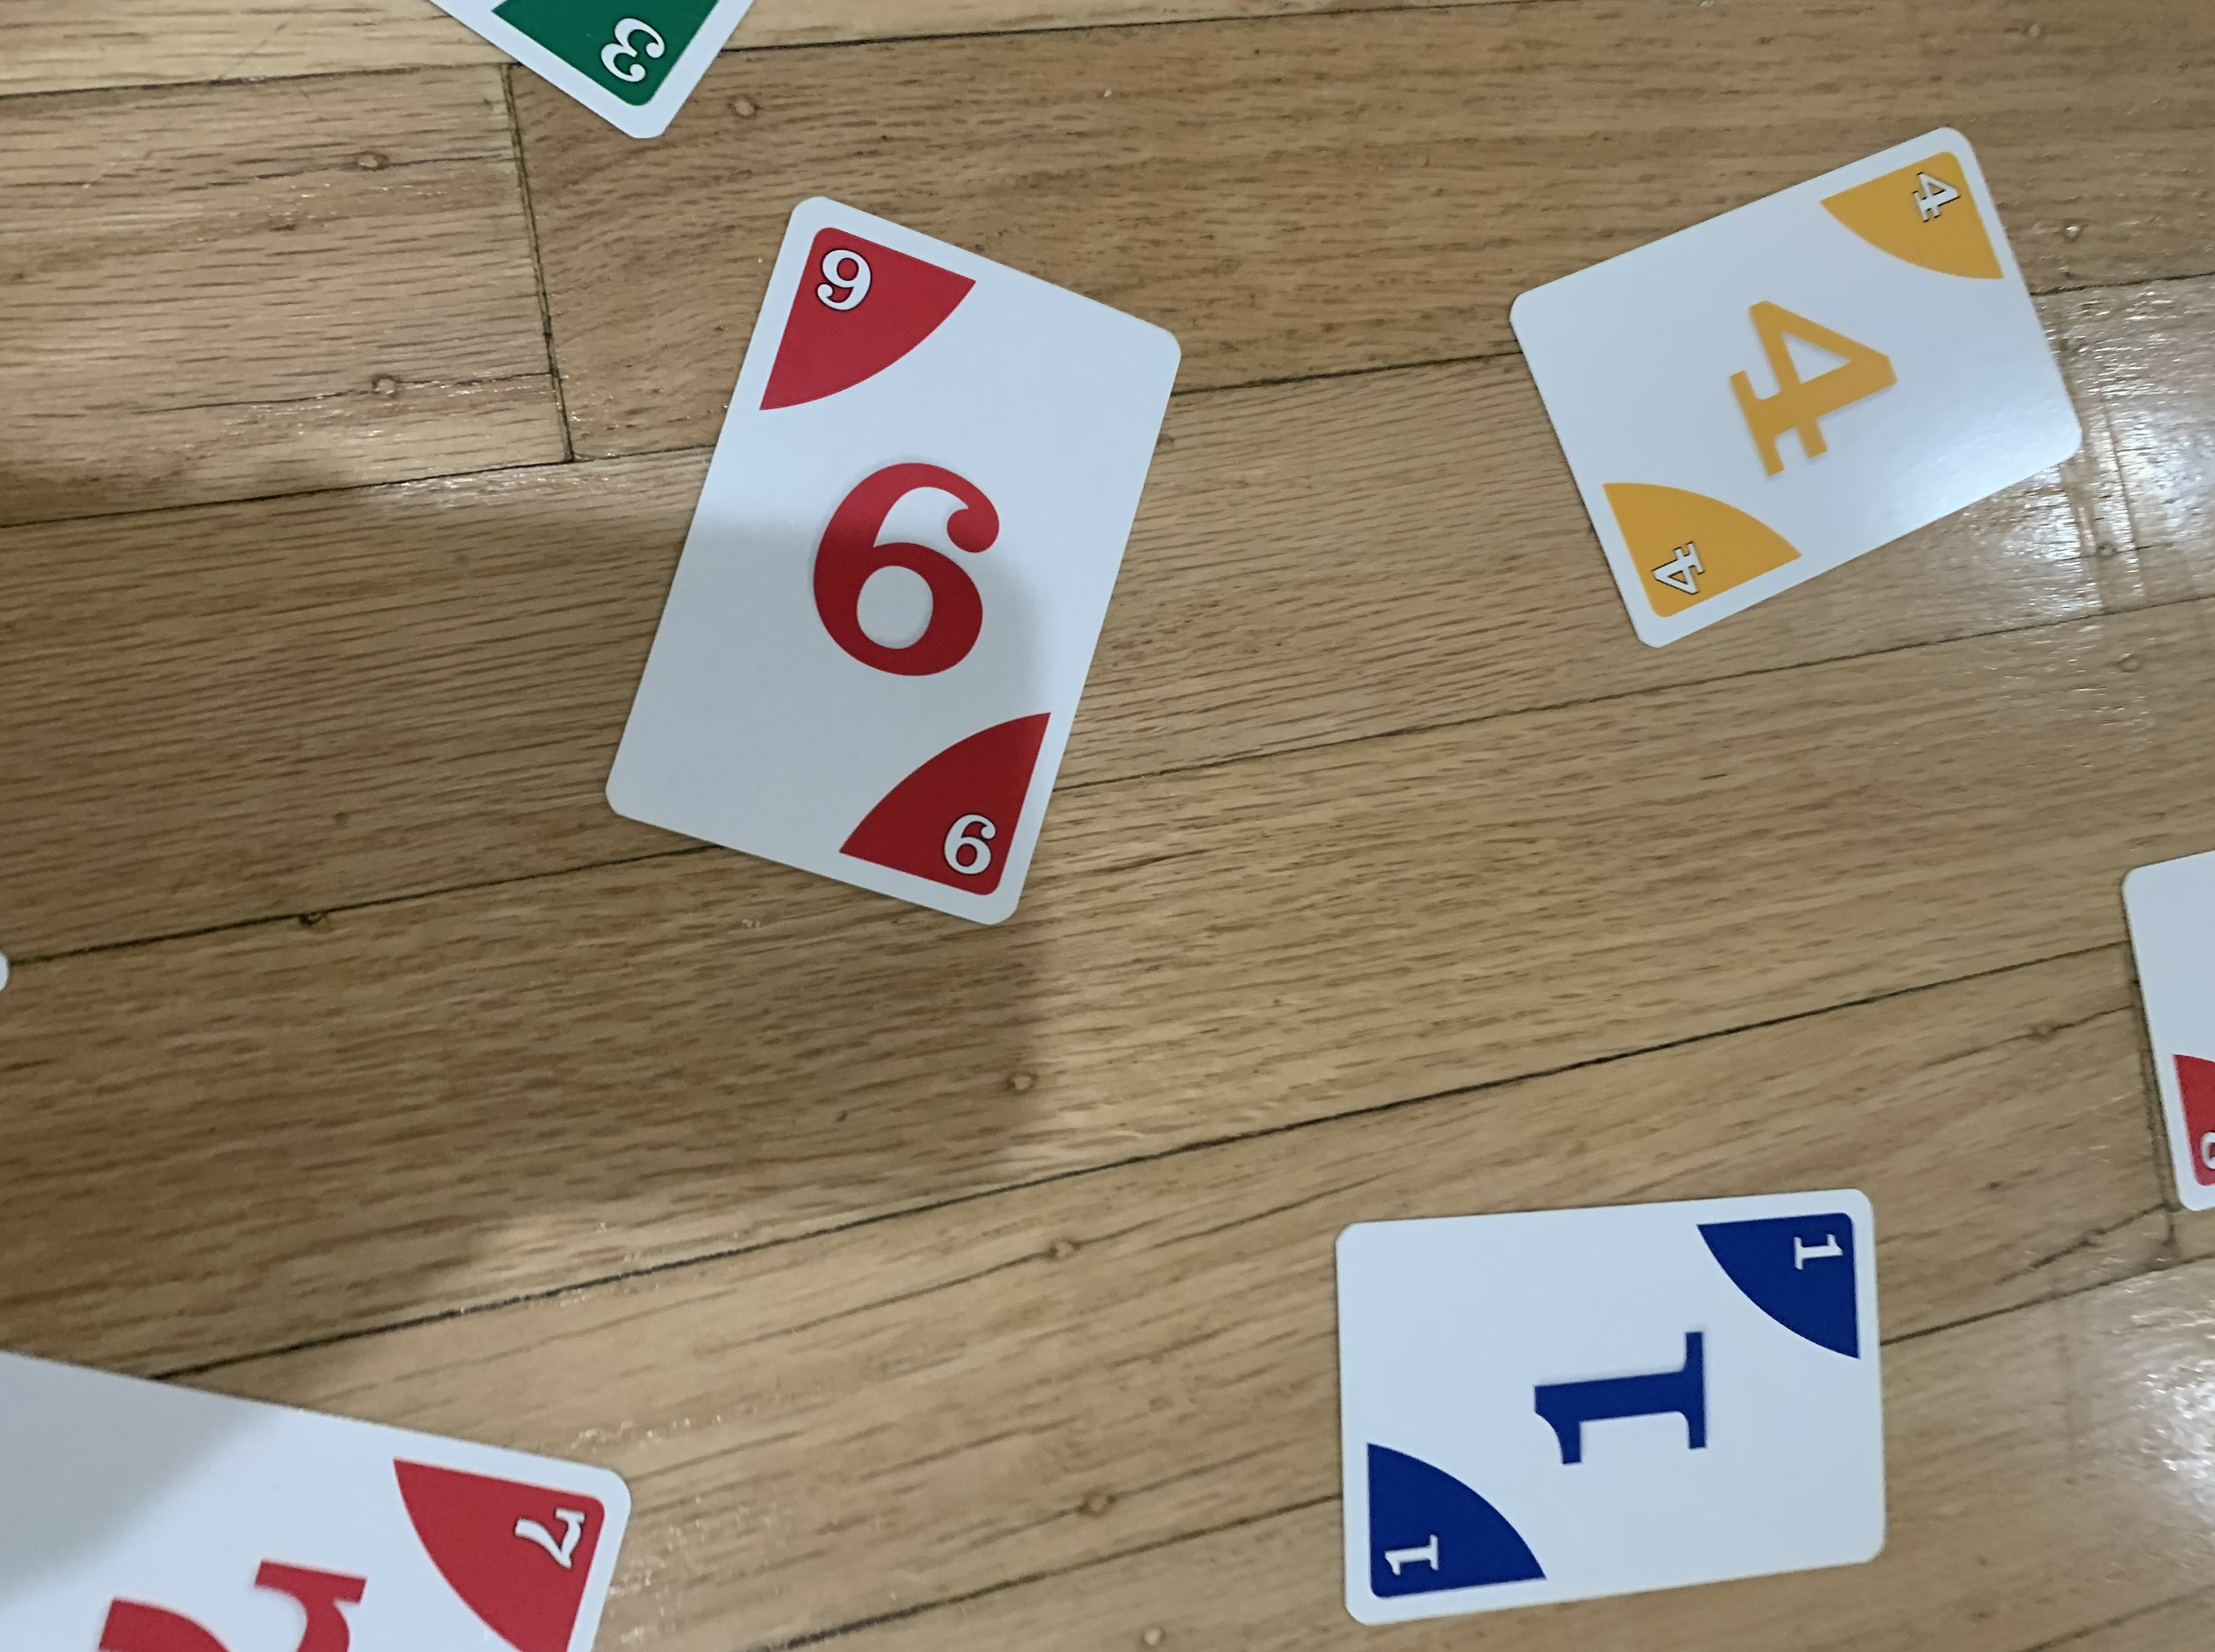four: (1496, 111, 2087, 661)
one: (1323, 1178, 1890, 1635)
six: (588, 177, 1187, 942)
